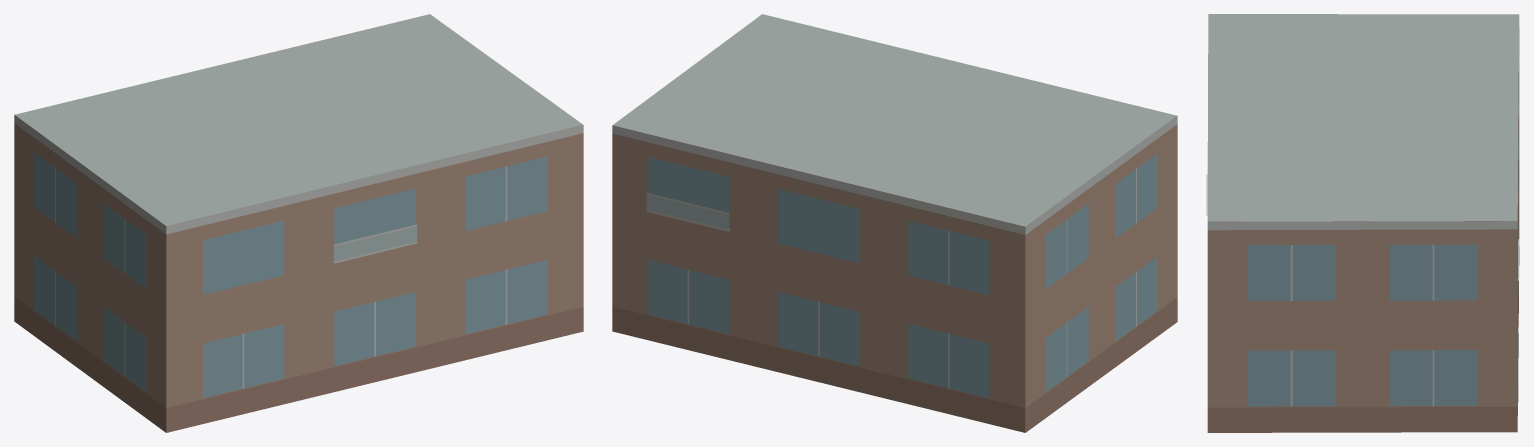
File: survey-upis-32959986.glb
The picture shows the model from 3 angles, left to right: view 1: azimuth 30°, elevation 25°; view 2: azimuth 150°, elevation 25°; view 3: azimuth 270°, elevation 25°; orthographic projection. The views are drawn at different scales.
Visible parts, largest first — view 1: survey-upis-32959986.tmp; view 2: survey-upis-32959986.tmp; view 3: survey-upis-32959986.tmp.
Part boxes in pixels (x1,y1,x2,y2): survey-upis-32959986.tmp: [14, 14, 583, 432]; survey-upis-32959986.tmp: [612, 14, 1177, 432]; survey-upis-32959986.tmp: [1206, 14, 1519, 432].
Bounding box in the file's own units: 12.89 × 6.1 × 8.21.
